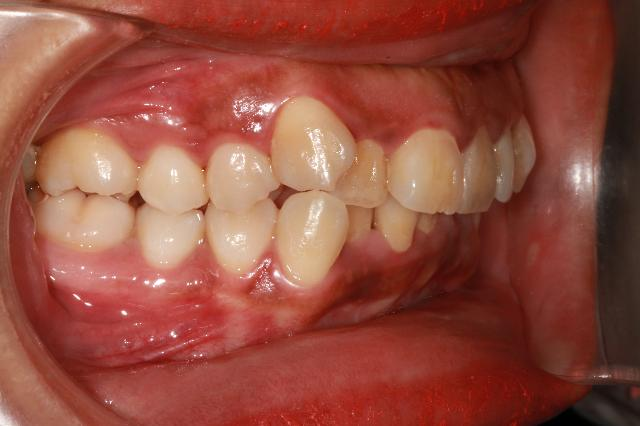canine class II 3/4: (208, 95, 358, 287)
molar class II 1/4: (30, 121, 140, 257)
